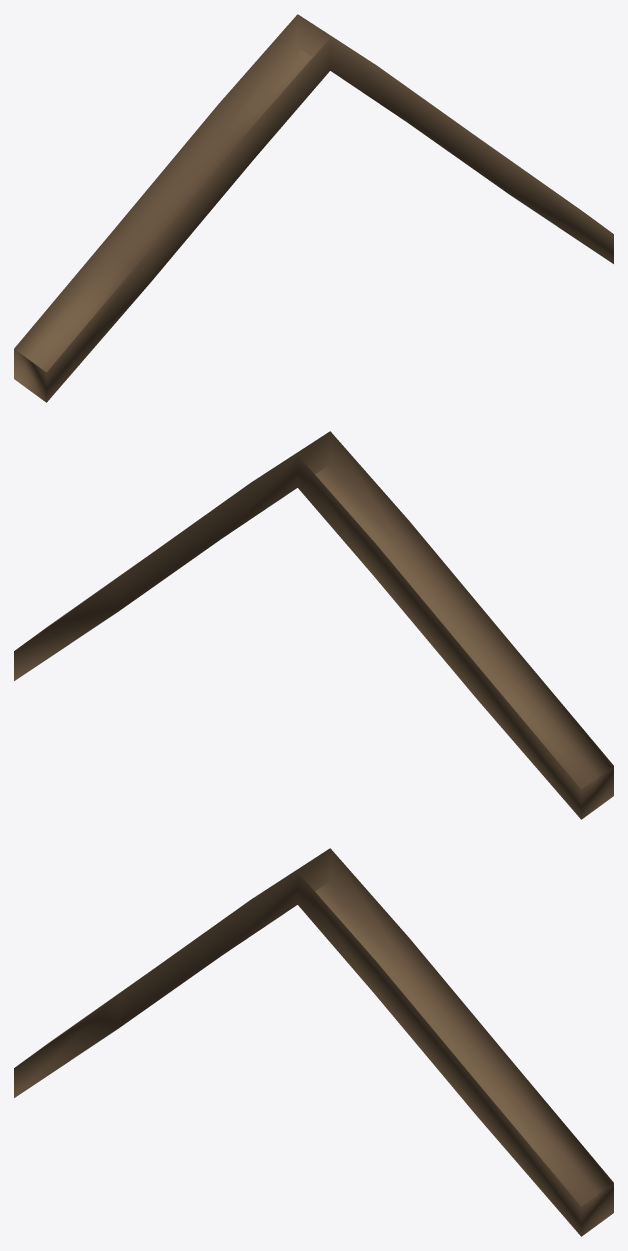
The model's file is rpgpp_ag_roof_end_01_6x3_beam_a.fbx.
3 views of the same model, one above another, from view 1: azimuth 30°, elevation 25°; view 2: azimuth 150°, elevation 25°; view 3: azimuth 330°, elevation 25° (orthographic).
Visible parts, largest first — view 1: rpgpp_ag_roof_end_01_6x3_beam_a; view 2: rpgpp_ag_roof_end_01_6x3_beam_a; view 3: rpgpp_ag_roof_end_01_6x3_beam_a.
Boxes of the visible parts, x1,y1,x2,y2 form: rpgpp_ag_roof_end_01_6x3_beam_a: (14, 14, 613, 402); rpgpp_ag_roof_end_01_6x3_beam_a: (14, 431, 613, 819); rpgpp_ag_roof_end_01_6x3_beam_a: (14, 848, 613, 1236).
Size of the model in its own units: 6.57 by 3.27 by 0.6538.
